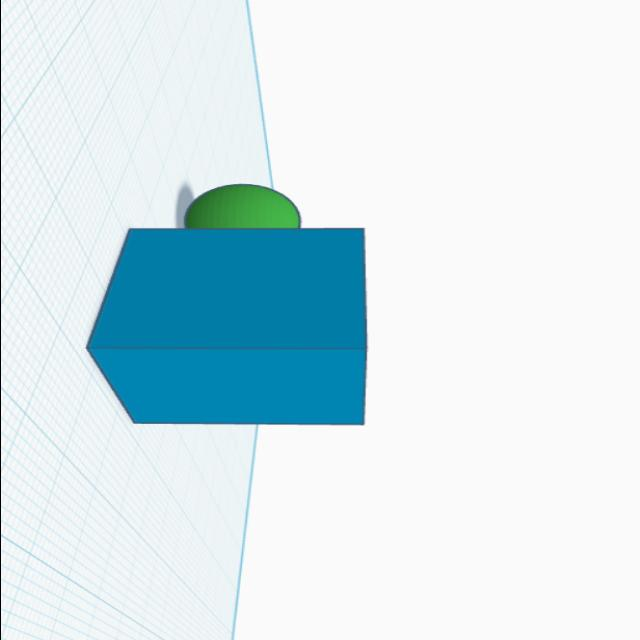cube: (80, 224, 380, 428)
